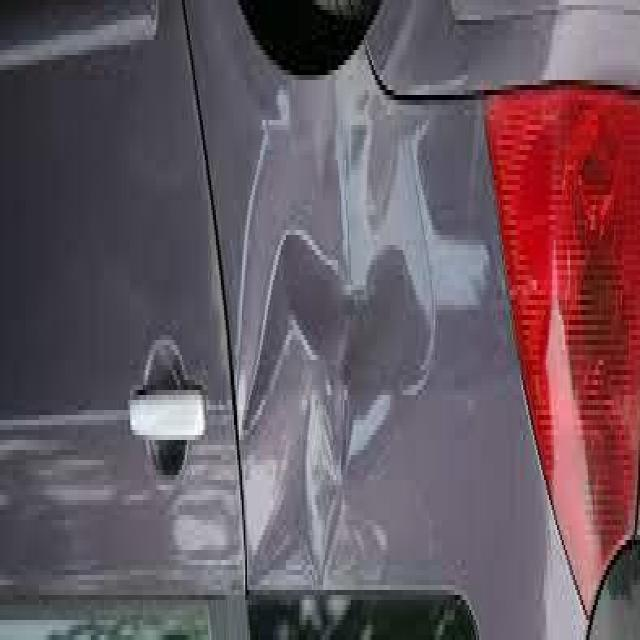dent: (198, 110, 457, 630)
